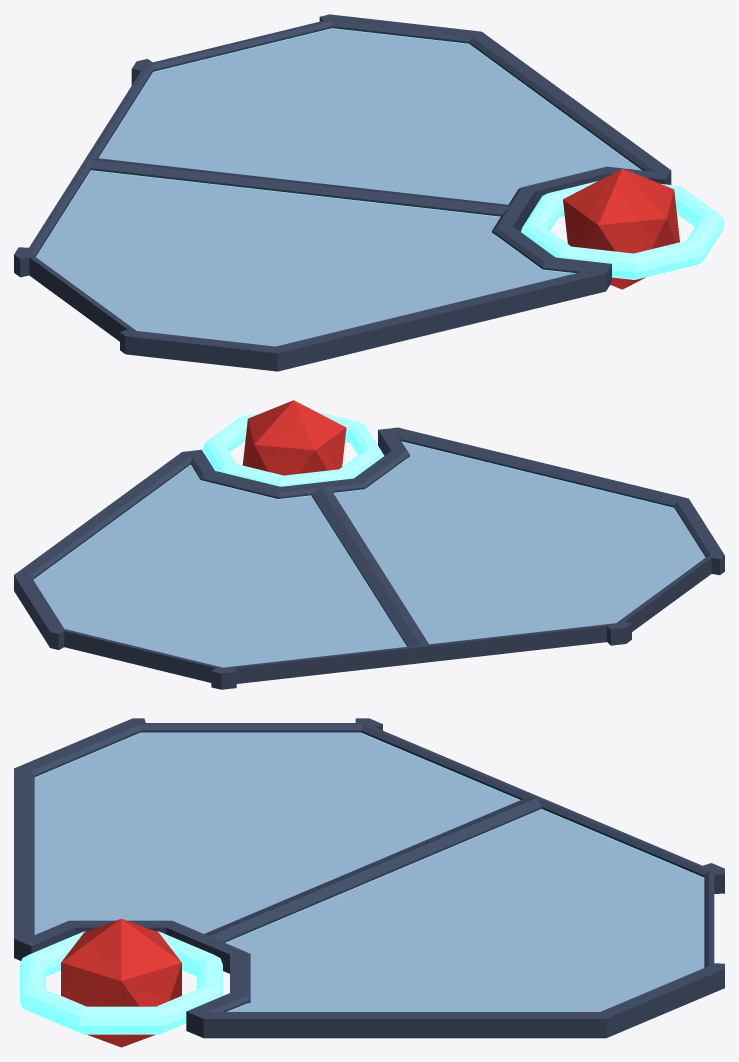
The model's file is gameLift.glb.
3 views of the same model, one above another, from view 1: azimuth 30°, elevation 25°; view 2: azimuth 150°, elevation 25°; view 3: azimuth 270°, elevation 25° (orthographic). The views are drawn at different scales.
Visible parts, largest first — view 1: LiftGlass, LiftBorders, Diamond, Ring; view 2: LiftGlass, LiftBorders, Diamond, Ring; view 3: LiftGlass, LiftBorders, Diamond, Ring.
Part boxes in pixels (x1,y1,x2,y2): LiftGlass: [36, 28, 640, 346]; LiftBorders: [14, 14, 671, 371]; Diamond: [563, 168, 679, 289]; Ring: [521, 181, 724, 279]; LiftGlass: [33, 442, 705, 667]; LiftBorders: [14, 427, 724, 689]; Diamond: [242, 400, 346, 475]; Ring: [203, 411, 383, 486]; LiftGlass: [34, 733, 704, 1011]; LiftBorders: [14, 718, 724, 1038]; Diamond: [61, 918, 181, 1047]; Ring: [20, 931, 222, 1034].
Size of what is drawn, in the model's own units: 3 by 0.6 by 3.
